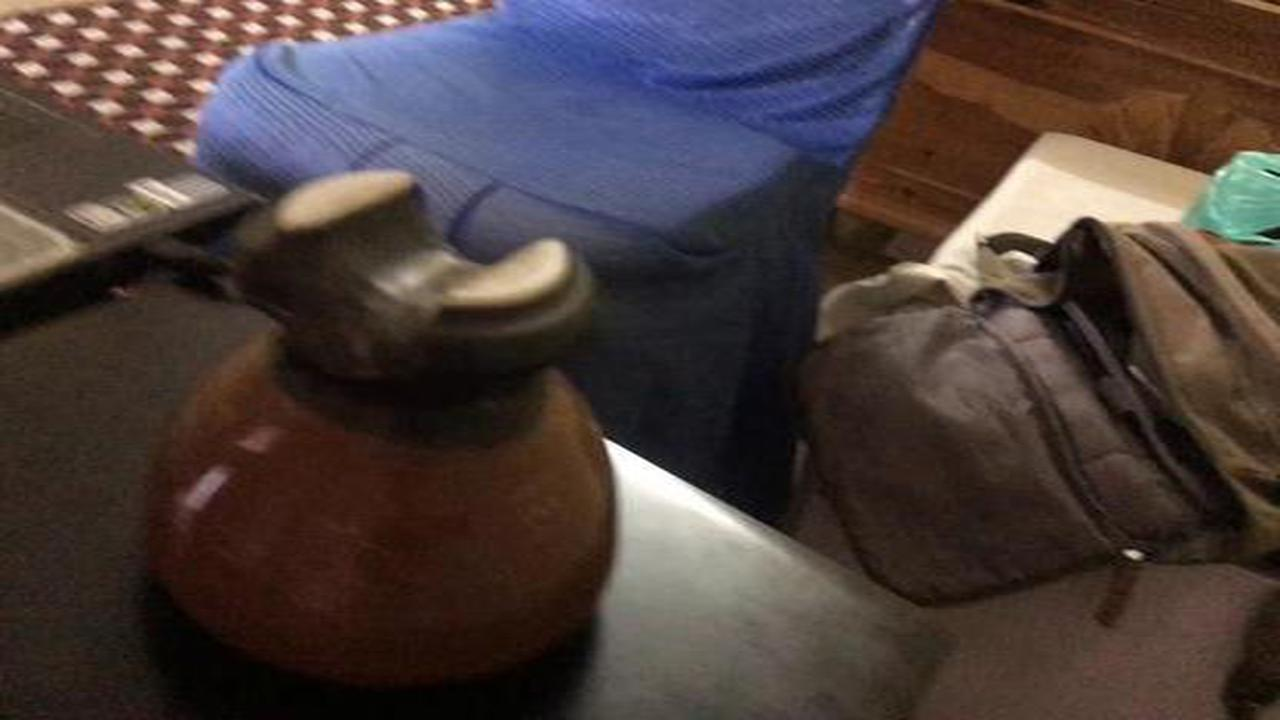insulator_pin: (124, 158, 644, 703)
